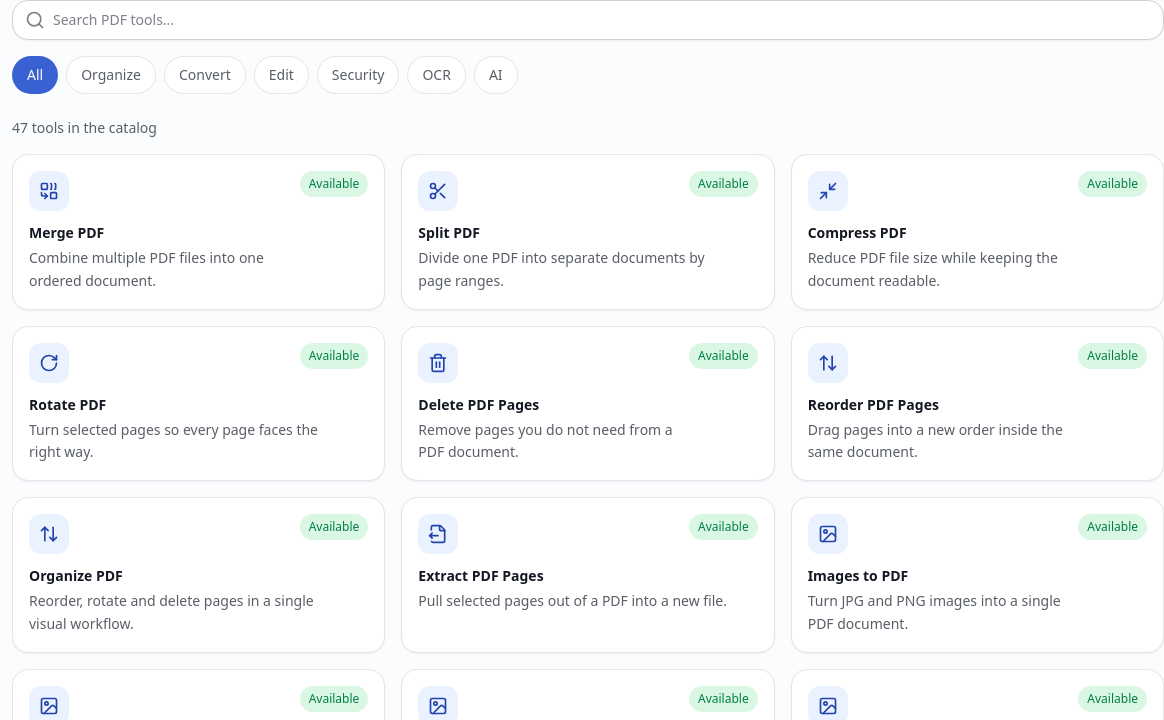
Test: ToolExplorer › filters results as the user types
The image size is (1164, 720).
Type "merge" into the search field named "search tools" at (602, 20), box [53, 10, 1151, 30]
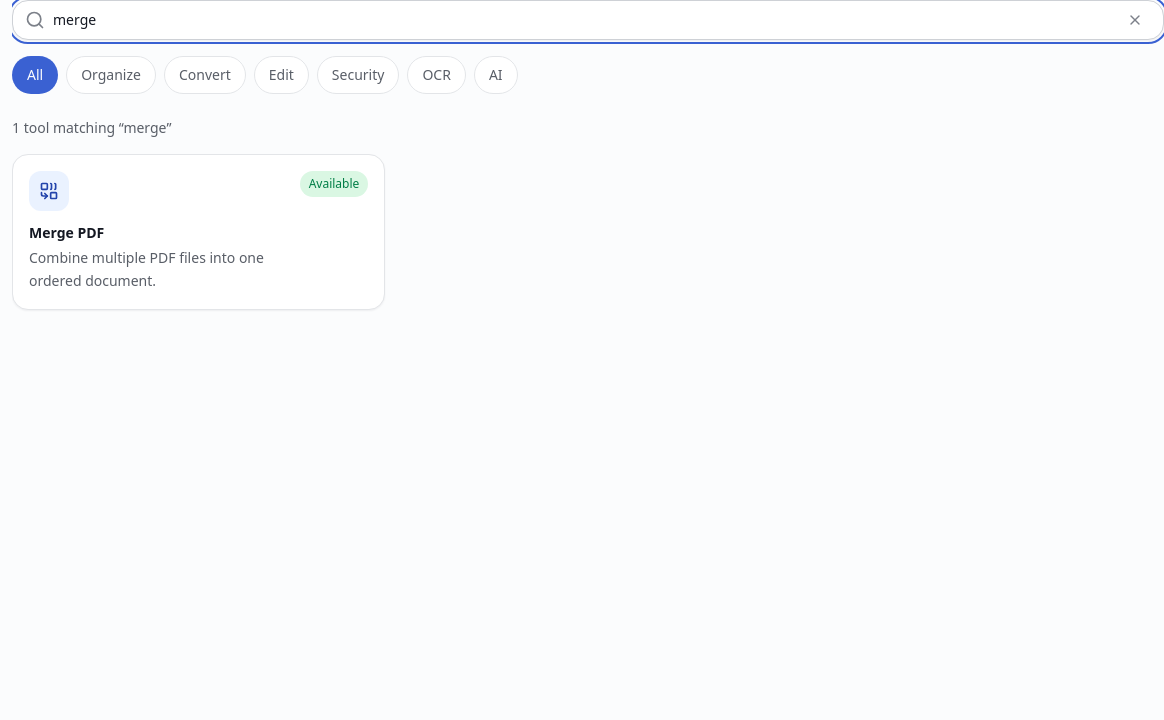
Expected: the link "Merge PDF" is shown, [12, 154, 385, 310]
Result: the link "Compress PDF" is gone
Result: the message shows "matching" at [12, 118, 171, 137]
